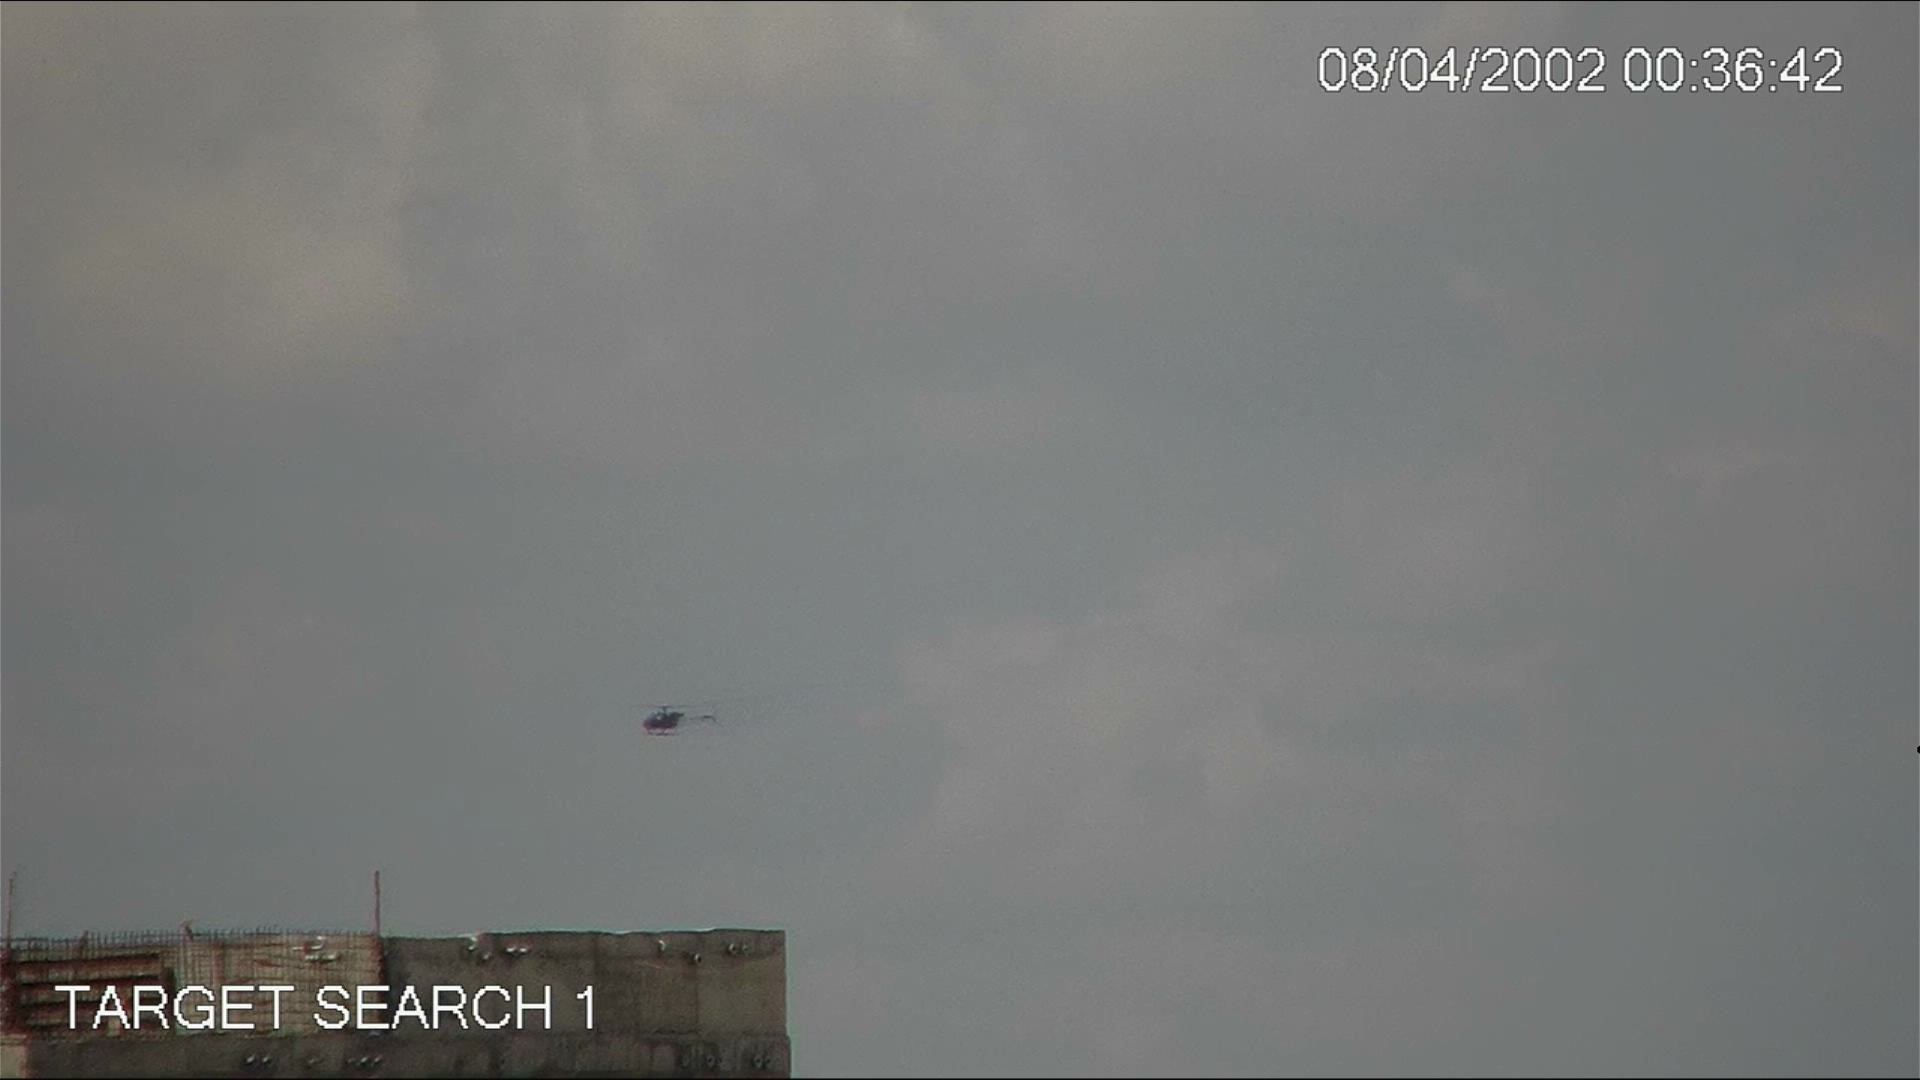SU_30: (636, 700, 725, 740)
